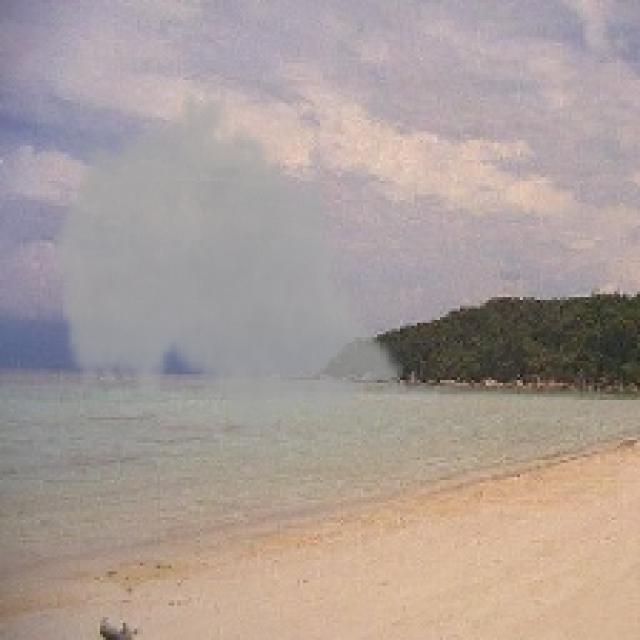Smoke: (48, 82, 406, 448)
